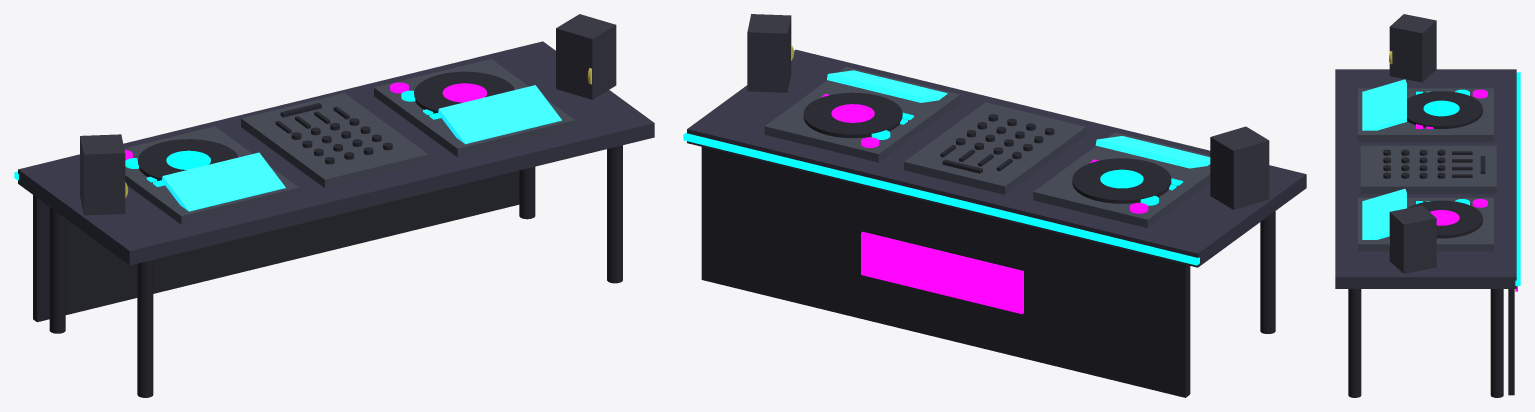
File: dj_booth_equipment.glb
3 views of the same model, side by side, from view 1: azimuth 30°, elevation 25°; view 2: azimuth 150°, elevation 25°; view 3: azimuth 270°, elevation 25° (orthographic). The views are drawn at different scales.
Visible parts, largest first — view 1: DJ_TableTop, DJ_BoothFacade, DJM_Mixer, Cube.021, CDJ_Deck_B, CDJ_Screen_A, CDJ_Screen_B, CDJ_Deck_A, Cube.020, BoothLeg_-1.7_-0.55, BoothLeg_1.7_-0.55, BoothLeg_-1.7_0.55 (+5 smaller); view 2: DJ_BoothFacade, DJ_TableTop, DJM_Mixer, DJ_BoothLogo, CDJ_Deck_B, CDJ_Deck_A, DJ_NeonTrim, Cube.020, Cube.021, CDJ_JogPlatter_B, CDJ_JogPlatter_A, BoothLeg_-1.7_-0.55 (+4 smaller); view 3: DJ_TableTop, DJM_Mixer, CDJ_Deck_A, Cube.021, Cube.020, CDJ_Deck_B, CDJ_JogPlatter_A, CDJ_Screen_A, CDJ_Screen_B, BoothLeg_1.7_-0.55, BoothLeg_1.7_0.55, CDJ_JogPlatter_B (+4 smaller).
Part boxes in pixels (x1=…): DJ_TableTop: x1=18, y1=41, x2=654, y2=265; DJ_BoothFacade: x1=33, y1=170, x2=519, y2=322; DJM_Mixer: x1=241, y1=93, x2=428, y2=188; Cube.021: x1=556, y1=14, x2=616, y2=99; CDJ_Deck_B: x1=374, y1=59, x2=574, y2=157; CDJ_Screen_A: x1=161, y1=152, x2=285, y2=211; CDJ_Screen_B: x1=438, y1=85, x2=561, y2=144; CDJ_Deck_A: x1=124, y1=126, x2=298, y2=224; Cube.020: x1=80, y1=134, x2=125, y2=215; BoothLeg_-1.7_-0.55: x1=137, y1=260, x2=153, y2=397; BoothLeg_1.7_-0.55: x1=607, y1=145, x2=622, y2=283; BoothLeg_-1.7_0.55: x1=49, y1=207, x2=65, y2=333; DJ_BoothFacade: x1=701, y1=147, x2=1189, y2=397; DJ_TableTop: x1=687, y1=49, x2=1306, y2=267; DJM_Mixer: x1=904, y1=102, x2=1086, y2=194; DJ_BoothLogo: x1=861, y1=231, x2=1023, y2=314; CDJ_Deck_B: x1=764, y1=66, x2=960, y2=162; CDJ_Deck_A: x1=1033, y1=132, x2=1210, y2=227; DJ_NeonTrim: x1=683, y1=132, x2=1199, y2=265; Cube.020: x1=1210, y1=126, x2=1269, y2=209; Cube.021: x1=747, y1=14, x2=791, y2=92; CDJ_JogPlatter_B: x1=803, y1=92, x2=902, y2=138; CDJ_JogPlatter_A: x1=1072, y1=158, x2=1171, y2=203; BoothLeg_-1.7_-0.55: x1=1260, y1=211, x2=1275, y2=333; DJ_TableTop: x1=1335, y1=69, x2=1516, y2=288; DJM_Mixer: x1=1360, y1=145, x2=1496, y2=193; CDJ_Deck_A: x1=1358, y1=88, x2=1493, y2=141; Cube.021: x1=1389, y1=205, x2=1436, y2=273; Cube.020: x1=1389, y1=14, x2=1436, y2=82; CDJ_Deck_B: x1=1358, y1=197, x2=1493, y2=251; CDJ_JogPlatter_A: x1=1407, y1=91, x2=1482, y2=128; CDJ_Screen_A: x1=1362, y1=79, x2=1406, y2=130; CDJ_Screen_B: x1=1362, y1=188, x2=1406, y2=239; BoothLeg_1.7_-0.55: x1=1348, y1=289, x2=1361, y2=397; BoothLeg_1.7_0.55: x1=1490, y1=289, x2=1503, y2=397; CDJ_JogPlatter_B: x1=1407, y1=200, x2=1482, y2=238.
Bounding box in the file's own units: 3.85 × 1.56 × 1.43.
